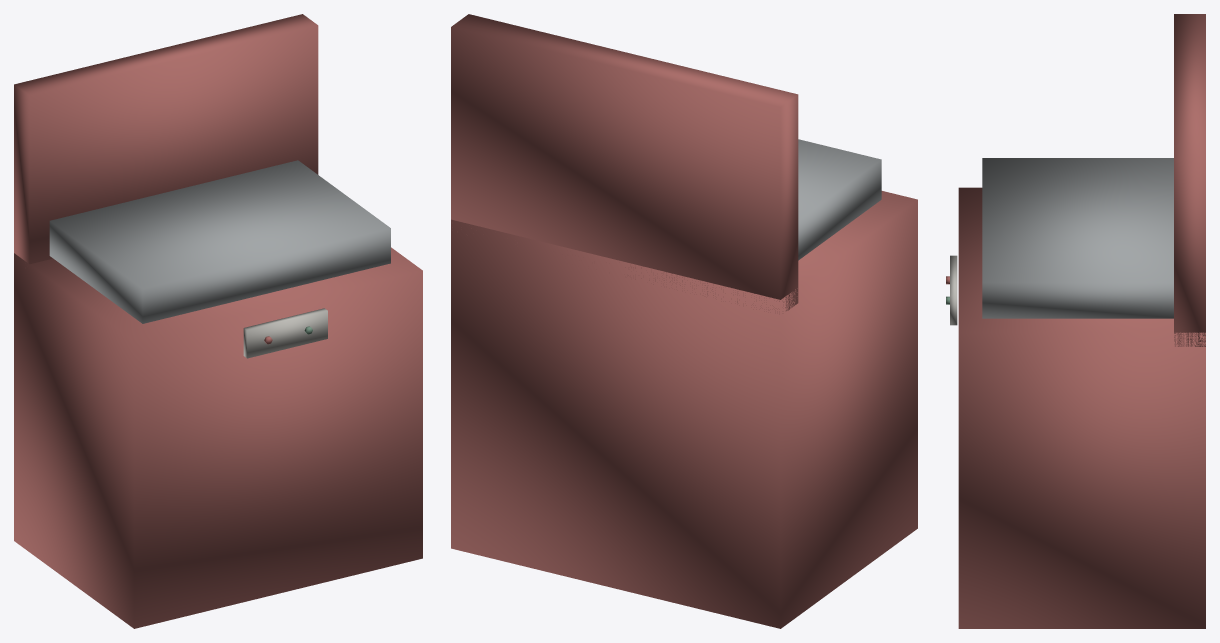
Rendered from parts_washer.glb.
3 renders of one model, left to right at view 1: azimuth 30°, elevation 25°; view 2: azimuth 150°, elevation 25°; view 3: azimuth 270°, elevation 25°, orthographic. The views are drawn at different scales.
Visible parts, largest first — view 1: world; view 2: world; view 3: world.
Part boxes in pixels (x1,y1,x2,y2): world: (14,14,422,628); world: (451,14,917,628); world: (946,14,1205,628).
Size of the model in its own units: 0.86 by 1.3 by 0.651.
